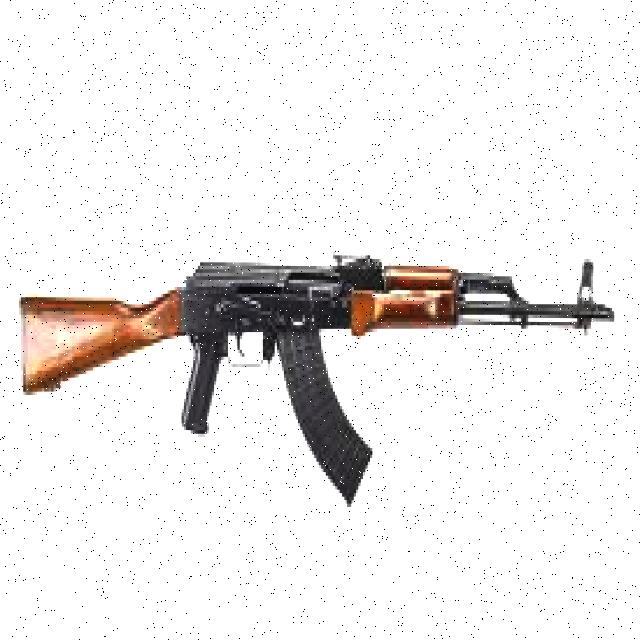AK-47 Gun: (20, 235, 615, 508)
